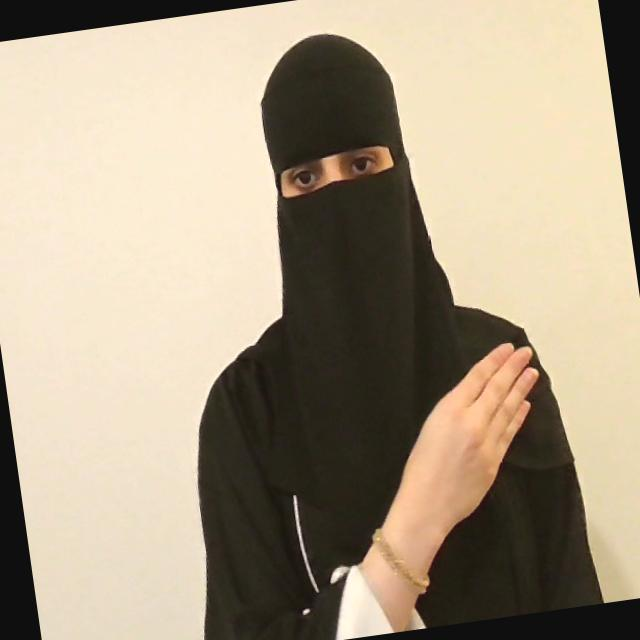result: (362, 335, 564, 572)
